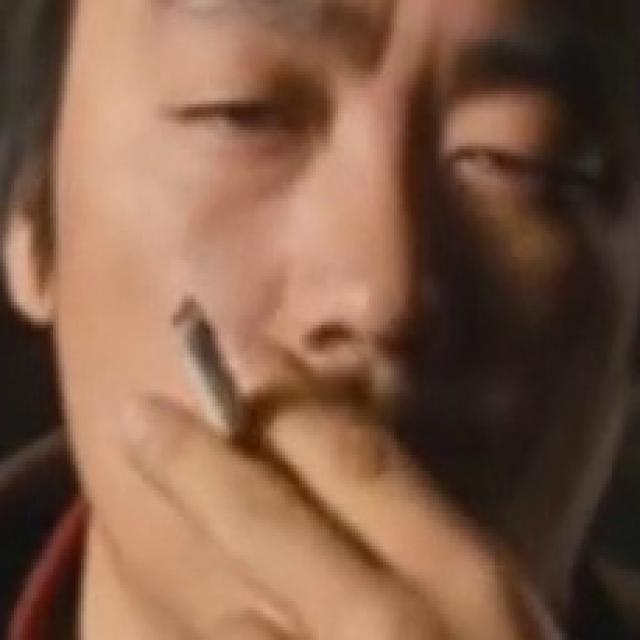smoking: (172, 300, 255, 442)
